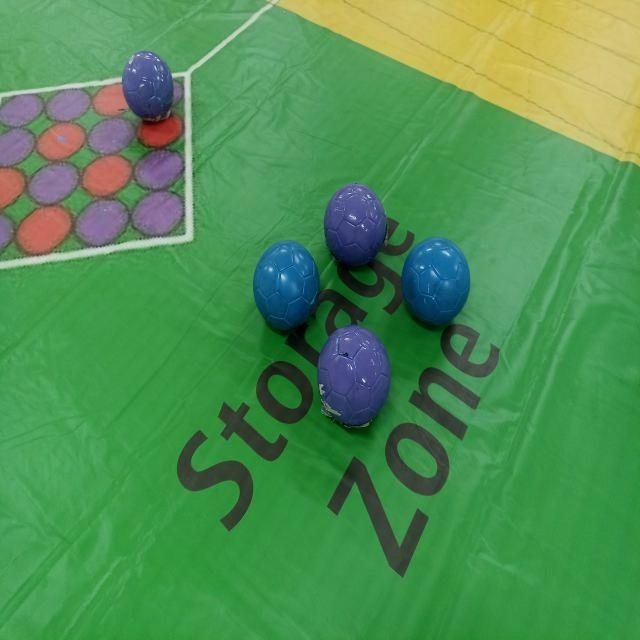blue_ball: (253, 240, 320, 337), (404, 236, 471, 332)
purple_ball: (318, 331, 392, 428), (326, 186, 383, 268), (123, 51, 176, 116)
